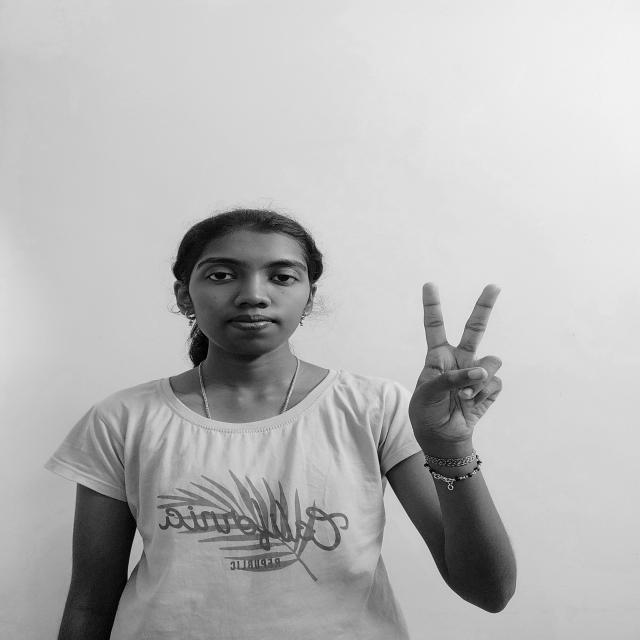Victory: (403, 272, 518, 452)
